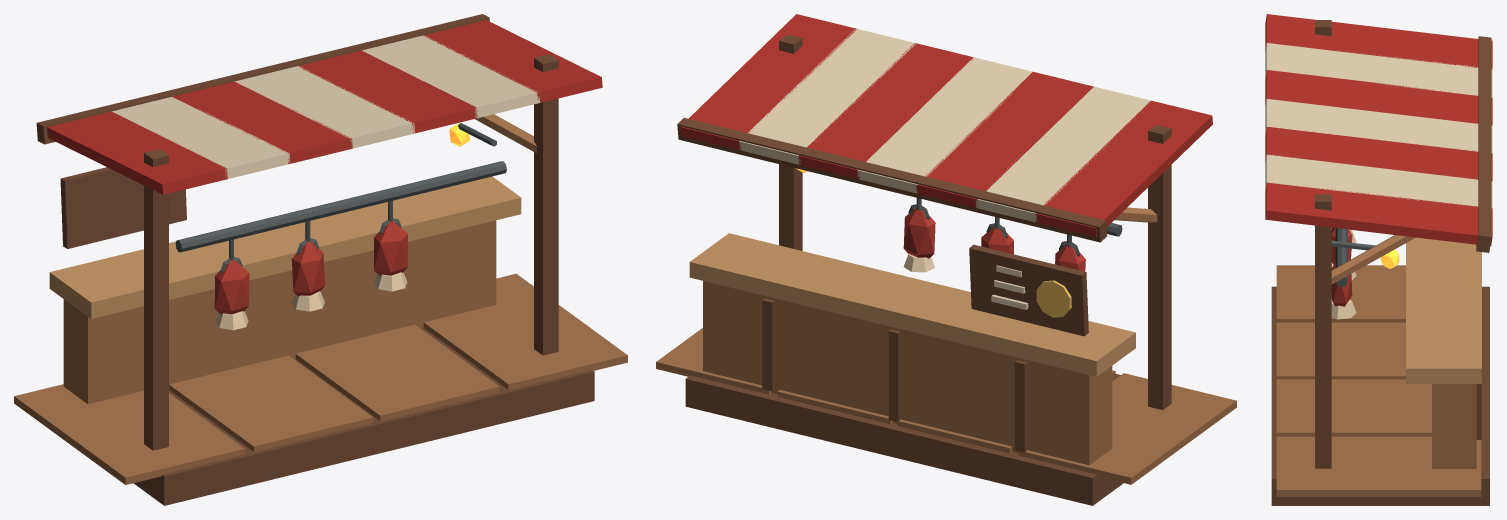
The model's file is butcher-stall.glb.
The picture shows the model from 3 angles, left to right: view 1: azimuth 30°, elevation 25°; view 2: azimuth 150°, elevation 25°; view 3: azimuth 270°, elevation 25°; orthographic projection. The views are drawn at different scales.
Visible parts, largest first — view 1: CounterFront, CounterTop, Floor, FloorPlank-2.18, FloorPlank0.72, FloorPlank-0.72, FloorPlank2.18, CanopyStripe0, CanopyPost-2.22, CanopyPost2.22, CanopyStripe4, CanopyStripe3 (+11 smaller); view 2: CounterFront, CounterTop, Floor, CanopyStripe0, CanopyStripe2, FloorPlank-2.18, CanopyStripe3, CanopyStripe5, CanopyStripe4, CanopyStripe6, CanopyStripe1, CanopyFrontBar (+11 smaller); view 3: CounterTop, FloorPlank2.18, CanopyStripe6, FloorPlank0.72, FloorPlank-0.72, CanopyStripe2, CanopyStripe4, CanopyStripe3, CanopyStripe0, CanopyStripe1, CanopyStripe5, FloorPlank-2.18 (+11 smaller).
Boxes of the visible parts, left/top/right/bottom form: CounterFront: left=63, top=220, right=496, bottom=404; CounterTop: left=49, top=176, right=521, bottom=318; Floor: left=134, top=328, right=594, bottom=505; FloorPlank-2.18: left=14, top=384, right=244, bottom=484; FloorPlank0.72: left=295, top=324, right=499, bottom=420; FloorPlank-0.72: left=169, top=355, right=373, bottom=451; FloorPlank2.18: left=423, top=273, right=627, bottom=389; CanopyStripe0: left=47, top=111, right=227, bottom=194; CanopyPost-2.22: left=144, top=149, right=168, bottom=450; CanopyPost2.22: left=534, top=54, right=558, bottom=355; CanopyStripe4: left=297, top=50, right=477, bottom=133; CanopyStripe3: left=234, top=66, right=415, bottom=148; CounterFront: left=703, top=281, right=1112, bottom=465; CounterTop: left=689, top=233, right=1135, bottom=376; Floor: left=685, top=374, right=1123, bottom=505; CanopyStripe0: left=1035, top=100, right=1212, bottom=237; CanopyStripe2: left=916, top=71, right=1093, bottom=207; FloorPlank-2.18: left=1018, top=373, right=1236, bottom=484; CanopyStripe3: left=857, top=57, right=1032, bottom=193; CanopyStripe5: left=739, top=28, right=916, bottom=164; CanopyStripe4: left=798, top=43, right=973, bottom=179; CanopyStripe6: left=680, top=14, right=856, bottom=150; CanopyStripe1: left=975, top=86, right=1150, bottom=222; CanopyFrontBar: left=677, top=117, right=1107, bottom=242; CounterTop: left=1406, top=237, right=1481, bottom=383; FloorPlank2.18: left=1276, top=436, right=1481, bottom=496; CanopyStripe6: left=1265, top=182, right=1492, bottom=246; FloorPlank0.72: left=1276, top=379, right=1431, bottom=436; FloorPlank-0.72: left=1276, top=322, right=1405, bottom=379; CanopyStripe2: left=1265, top=70, right=1492, bottom=125; CanopyStripe4: left=1265, top=126, right=1492, bottom=181; CanopyStripe3: left=1265, top=99, right=1492, bottom=153; CanopyStripe0: left=1265, top=14, right=1492, bottom=69; CanopyStripe1: left=1265, top=42, right=1492, bottom=97; CanopyStripe5: left=1265, top=154, right=1492, bottom=208; FloorPlank-2.18: left=1276, top=265, right=1405, bottom=322.
Size of the model in its own units: 5.72 by 3.55 by 2.44.
